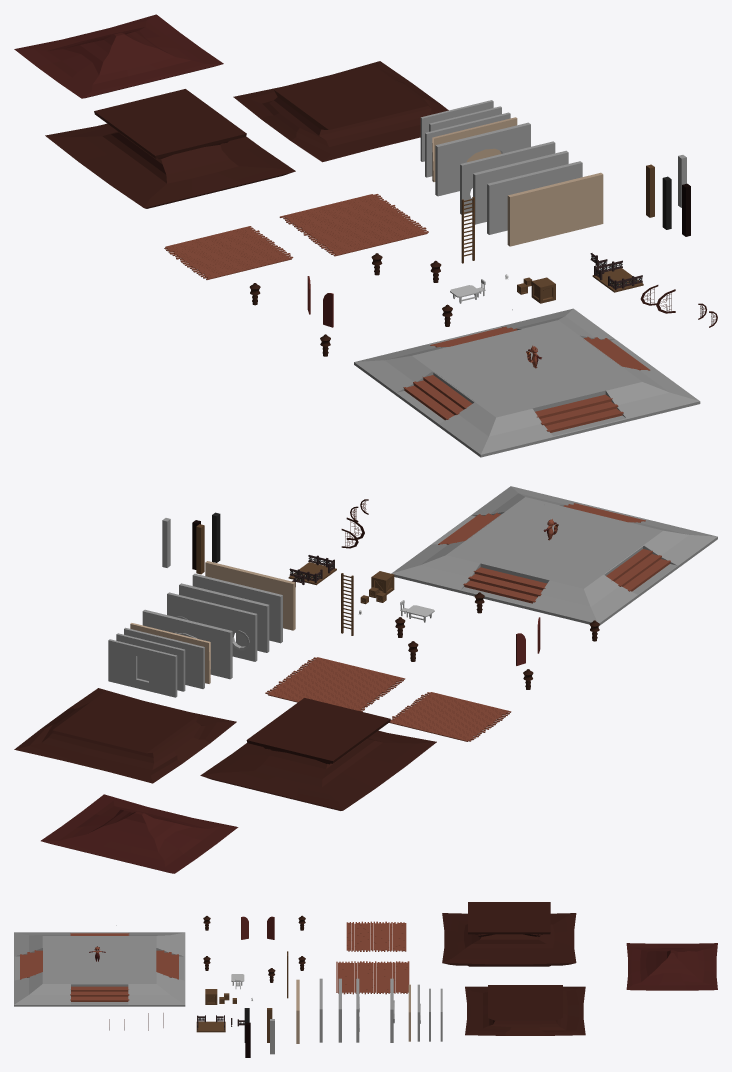
The model's file is Building_extra.fbx.
The picture shows the model from 3 angles, top to bottom: view 1: azimuth 30°, elevation 25°; view 2: azimuth 150°, elevation 25°; view 3: azimuth 270°, elevation 25°; orthographic projection. The views are drawn at different scales.
Visible parts, largest first — view 1: Cube, Cube.005, Cube.006, Cube.008, BagaPie_Floor.001, Plane.002, BagaPie_Floor.002, Plane.004, Plane.005, Plane.010, Plane, Plane.012 (+2 smaller); view 2: Cube, Cube.005, Cube.006, Cube.008, BagaPie_Floor.001, BagaPie_Floor.002, Plane.001, Plane, Plane.004, Plane.002, Plane.010, Plane.005 (+4 smaller); view 3: Cube, Cube.005, Cube.006, Cube.008, BagaPie_Floor.001, BagaPie_Floor.002, Plane.003, Cube.001, Cylinder.001, Plane.004.
Part boxes in pixels (x1,y1,x2,y2): Cube: (354,308,700,457); Cube.005: (45,89,295,208); Cube.006: (233,61,448,162); Cube.008: (14,14,223,98); BagaPie_Floor.001: (279,194,428,256); Plane.002: (507,172,603,246); BagaPie_Floor.002: (164,226,293,279); Plane.004: (435,122,530,196); Plane.005: (487,161,582,234); Plane.010: (473,150,568,224); Plane: (460,141,555,214); Plane.012: (432,117,517,181); Cube: (391,486,717,625); Cube.005: (200,698,436,810); Cube.006: (14,688,236,783); Cube.008: (41,794,238,873); BagaPie_Floor.001: (265,657,405,711); BagaPie_Floor.002: (389,692,511,741); Plane.001: (108,639,177,697); Plane: (167,592,257,661); Plane.004: (142,609,232,679); Plane.002: (205,561,295,630); Plane.010: (179,583,269,652); Plane.005: (192,573,282,643); Cube: (14,932,185,1006); Cube.005: (442,902,576,966); Cube.006: (465,985,585,1035); Cube.008: (626,943,717,990); BagaPie_Floor.001: (336,961,409,994); BagaPie_Floor.002: (346,921,406,951); Plane.003: (241,916,274,939); Cube.001: (196,1021,225,1032); Cylinder.001: (203,915,305,970); Plane.004: (390,978,394,1042).
Bounding box in the file's own units: 11756 × 1763 × 24983.
